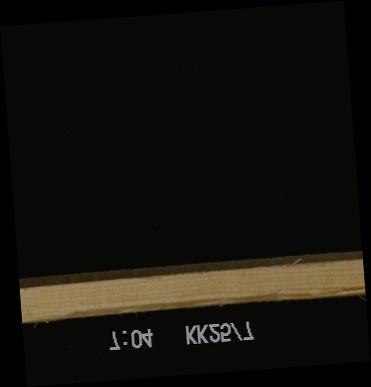split: (321, 283, 364, 297)
wave: (63, 291, 311, 310)
